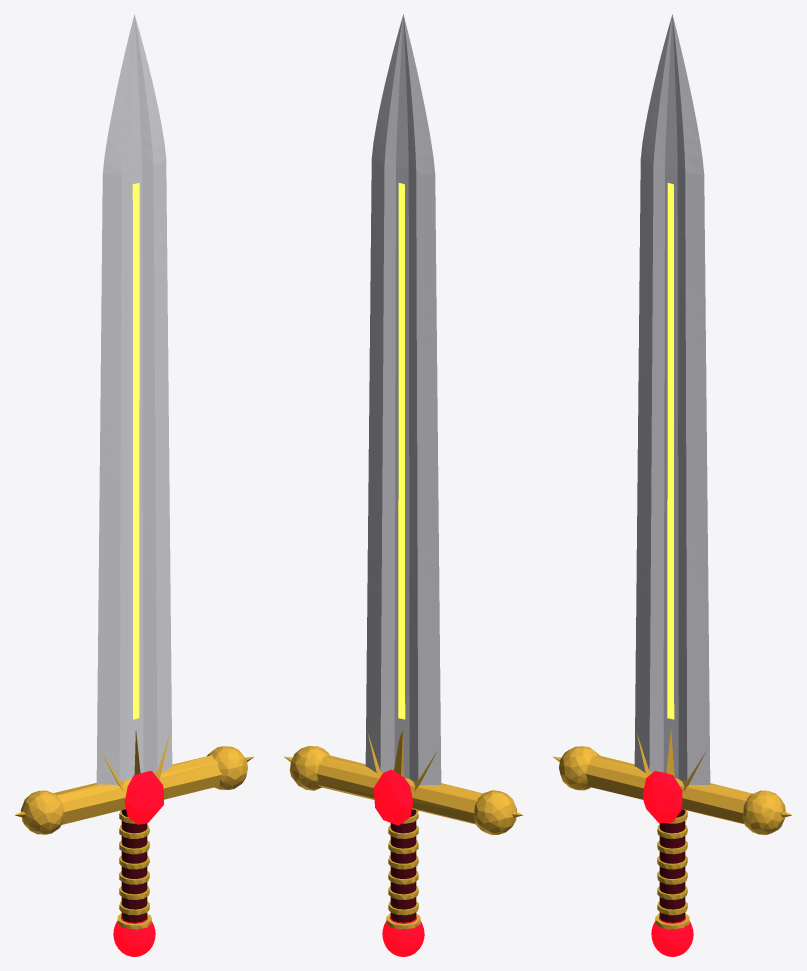
Rendered from sword_3.glb.
The picture shows the model from 3 angles, left to right: view 1: azimuth 30°, elevation 25°; view 2: azimuth 150°, elevation 25°; view 3: azimuth 330°, elevation 25°; orthographic projection.
Parts seen in each view (by area): view 1: part_01, part_04, part_03, part_14, part_12, part_05, part_06, part_22; view 2: part_01, part_04, part_02, part_14, part_13, part_05, part_06, part_22; view 3: part_01, part_04, part_03, part_14, part_12, part_06, part_05, part_22.
Boxes of the visible parts, x1,y1,x2,y2 form: part_01: (96,14,172,785); part_04: (53,755,221,824); part_03: (132,183,139,719); part_14: (121,809,147,922); part_12: (124,771,163,824); part_05: (20,790,64,834); part_06: (207,746,247,789); part_22: (113,917,155,956); part_01: (365,14,441,784); part_04: (316,755,482,824); part_02: (398,183,405,719); part_14: (390,809,416,922); part_13: (374,769,413,825); part_05: (473,790,516,834); part_06: (289,746,329,790); part_22: (382,917,424,956); part_01: (634,14,710,784); part_04: (585,755,752,824); part_03: (667,183,674,719); part_14: (659,809,685,922); part_12: (643,771,682,823); part_06: (742,790,785,834); part_05: (559,746,599,790); part_22: (651,917,693,956).
Size of the model in its own units: 0.369 by 1.38 by 0.0848.
